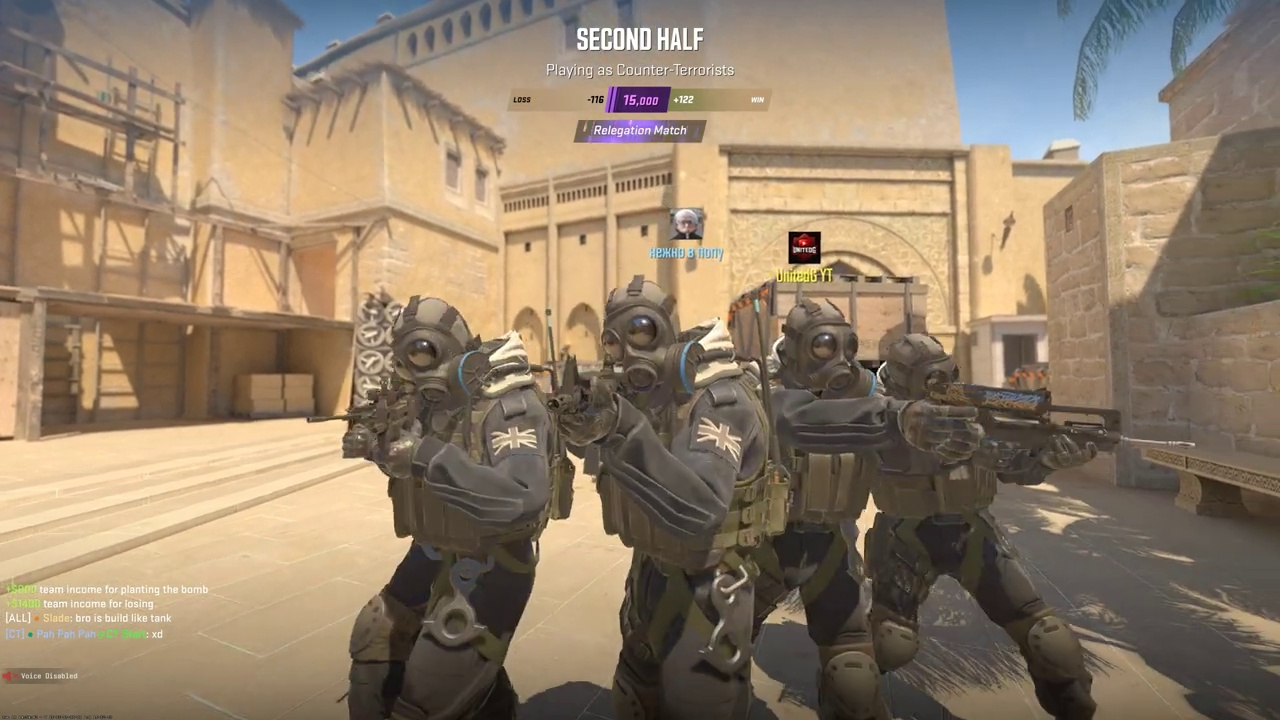CT: (341, 298, 554, 720), (871, 332, 1087, 715), (587, 282, 760, 720), (764, 301, 877, 717)
